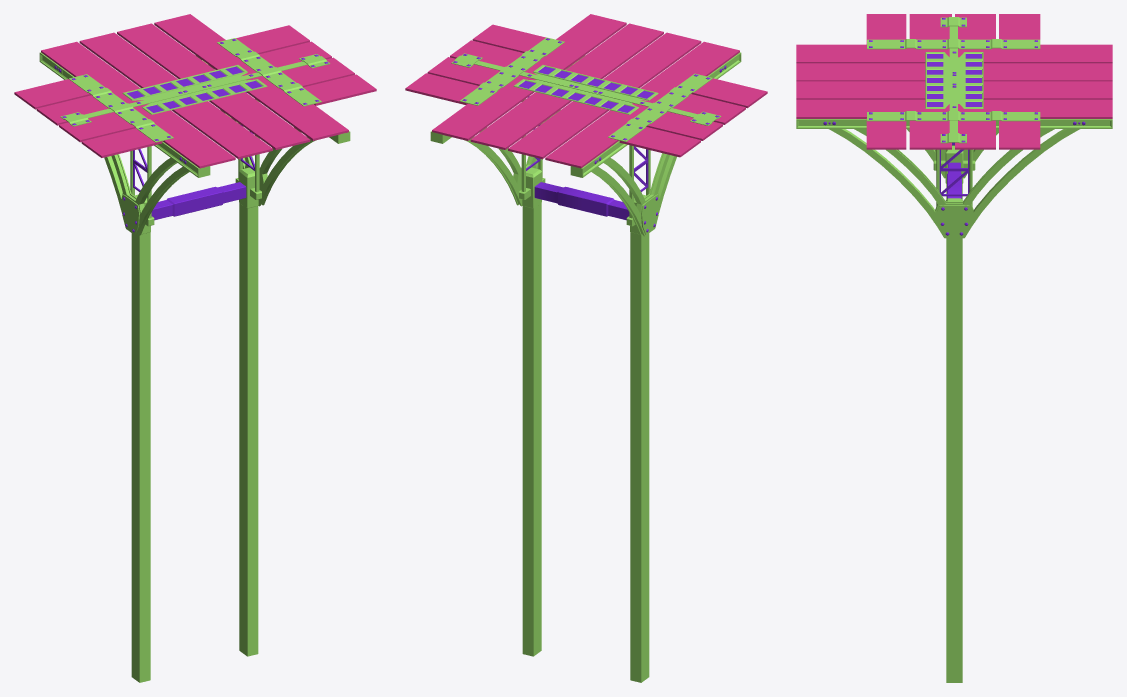
File: Floor_01_Bridge_I_2x1_01_b.fbx
The picture shows the model from 3 angles, left to right: view 1: azimuth 30°, elevation 25°; view 2: azimuth 150°, elevation 25°; view 3: azimuth 270°, elevation 25°; orthographic projection.
Parts seen in each view (by area): view 1: Cylinder.004; view 2: Cylinder.004; view 3: Cylinder.004.
Boxes of the visible parts, <box> form: Cylinder.004: <box>14,14,376,682</box>; Cylinder.004: <box>405,14,767,682</box>; Cylinder.004: <box>796,14,1112,682</box>.
Size of the model in its own units: 200 by 401 by 200.
